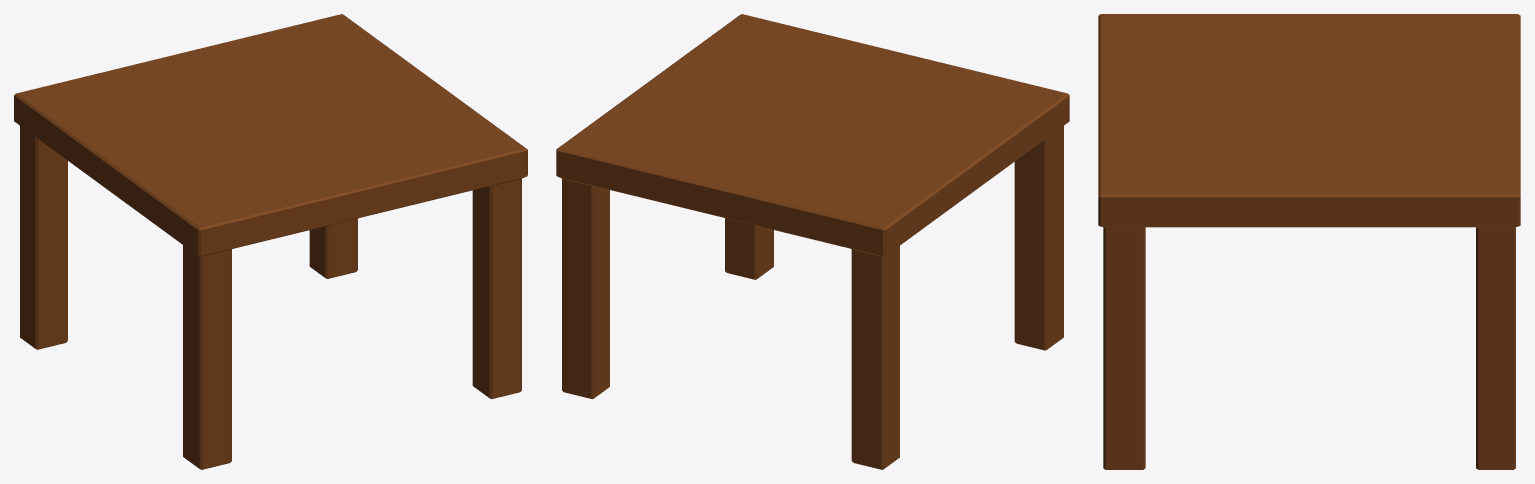
Rendered from Mesa.fbx.
3 renders of one model, left to right at view 1: azimuth 30°, elevation 25°; view 2: azimuth 150°, elevation 25°; view 3: azimuth 270°, elevation 25°, orthographic. The views are drawn at different scales.
Visible parts, largest first — view 1: Plane; view 2: Plane; view 3: Plane.
Part boxes in pixels (x1,y1,x2,y2): Plane: [14, 14, 527, 469]; Plane: [556, 14, 1069, 469]; Plane: [1098, 14, 1520, 469].
Size of the model in its own units: 880 by 623 by 859.
